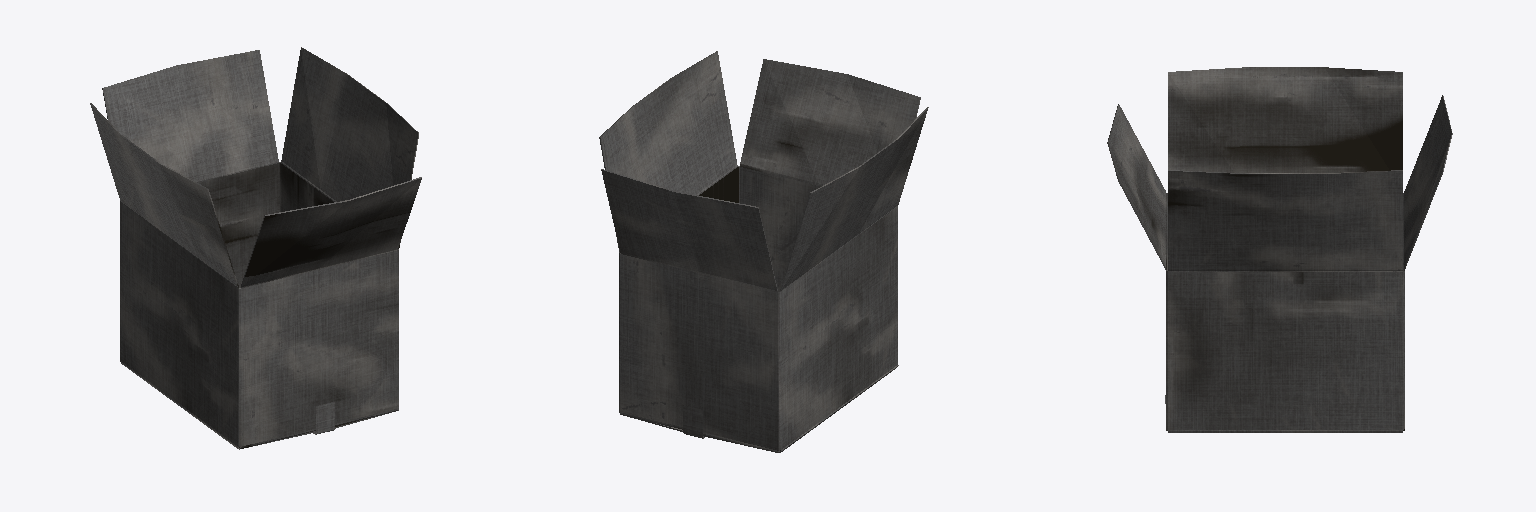
3 views of the same model, side by side, from view 1: azimuth 30°, elevation 25°; view 2: azimuth 150°, elevation 25°; view 3: azimuth 270°, elevation 25° (orthographic).
Parts seen in each view (by area): view 1: Object_8; view 2: Object_8; view 3: Object_8.
Part boxes in pixels (x1,y1,x2,y2): Object_8: (90, 47, 421, 449); Object_8: (599, 51, 928, 452); Object_8: (1107, 67, 1452, 432).
Size of the model in its own units: 0.5893 by 0.68 by 0.7721.
1 materials, 1 textured.